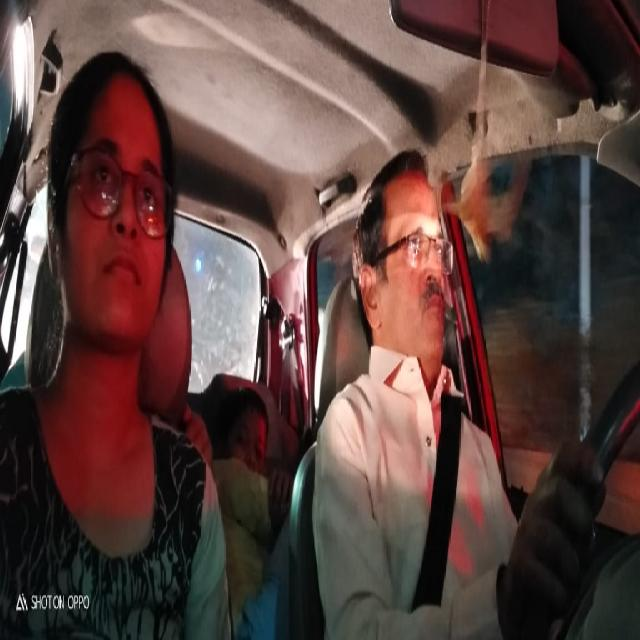person: (46, 40, 183, 365), (346, 138, 465, 395), (219, 380, 274, 477)
